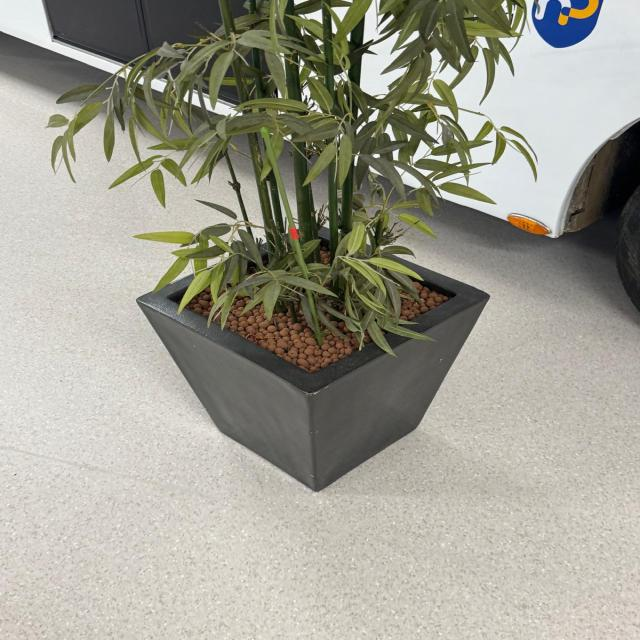Pot: (134, 221, 490, 490)
